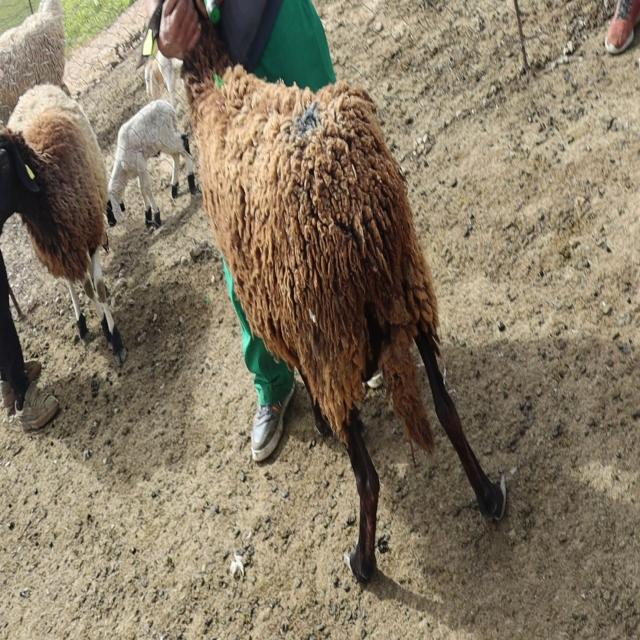Score_1: (182, 18, 505, 581)
